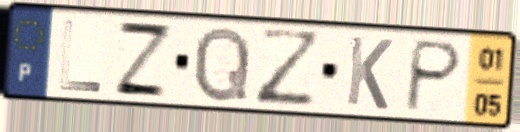K: (343, 33, 395, 113)
L: (57, 17, 105, 95)
P: (401, 37, 466, 115)
Q: (190, 23, 253, 105)
Z: (253, 25, 326, 108), (111, 18, 176, 100)
